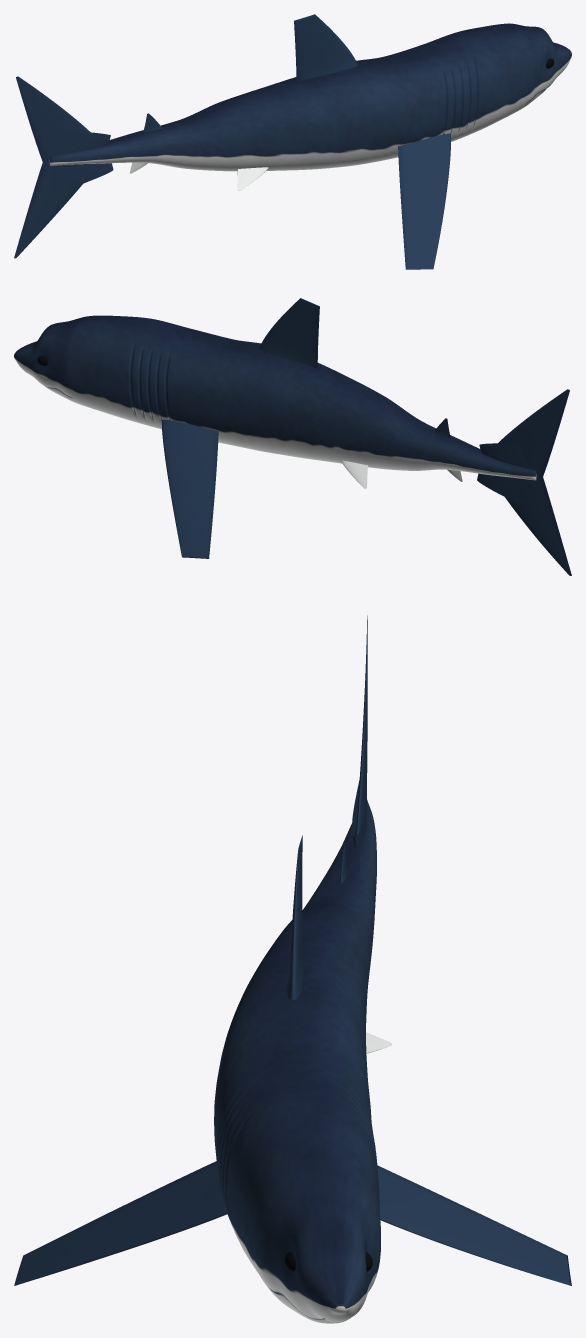
The model's file is longfin_mako.glb.
3 renders of one model, top to bottom at view 1: azimuth 30°, elevation 25°; view 2: azimuth 150°, elevation 25°; view 3: azimuth 270°, elevation 25°, orthographic. The views are drawn at different scales.
Parts seen in each view (by area): view 1: LongfinMako_Body, LongfinMako_Fins; view 2: LongfinMako_Body, LongfinMako_Fins; view 3: LongfinMako_Body, LongfinMako_Fins.
Boxes of the visible parts, <box> form: LongfinMako_Body: <box>49,23,571,171</box>; LongfinMako_Fins: <box>14,14,450,269</box>; LongfinMako_Body: <box>14,315,536,480</box>; LongfinMako_Fins: <box>162,298,571,575</box>; LongfinMako_Body: <box>214,800,380,1323</box>; LongfinMako_Fins: <box>14,615,571,1285</box>.
Size of the model in its own units: 2.5 by 0.9134 by 1.16.
3 materials, 1 textured.
